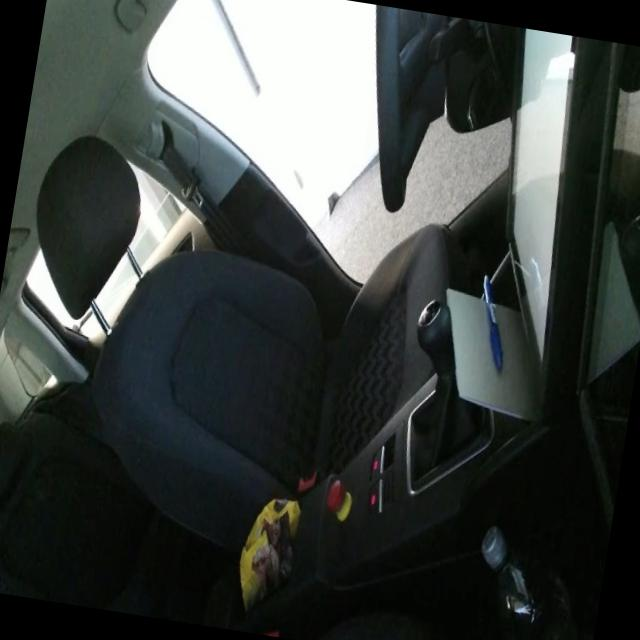pen: (468, 272, 516, 372)
